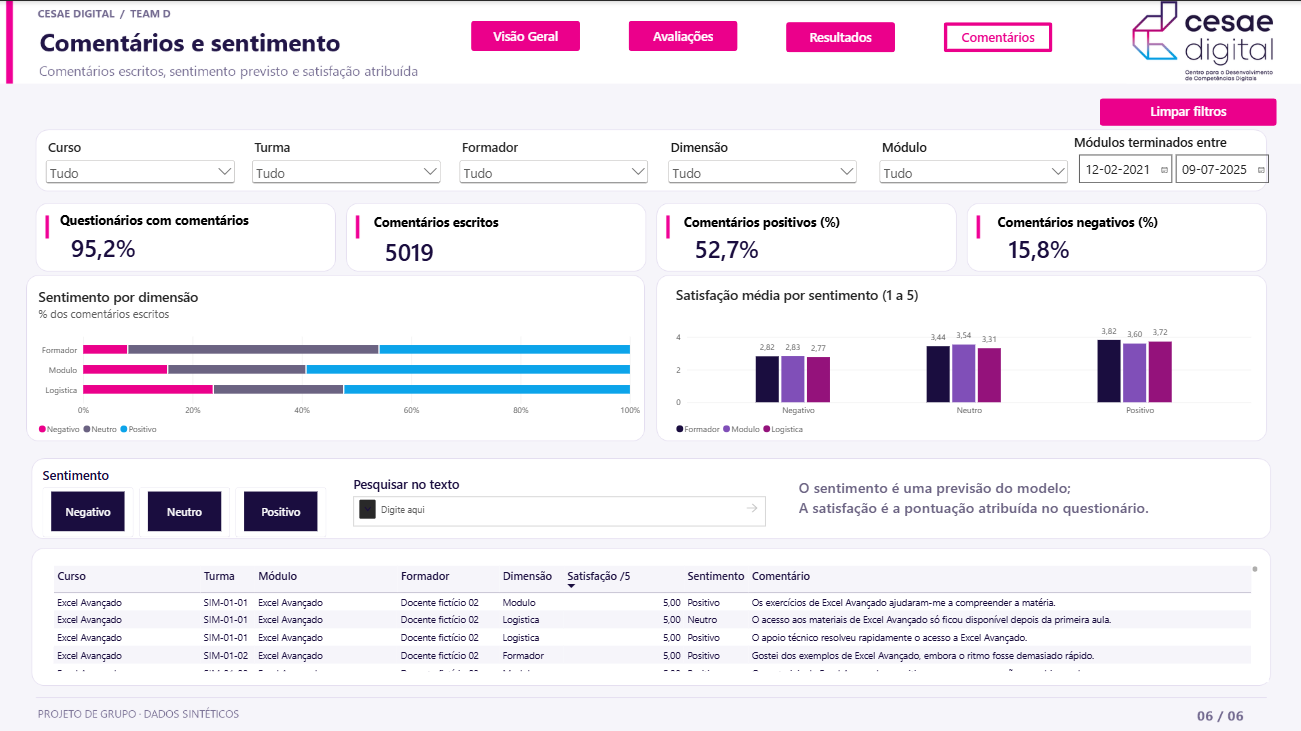

What the dashboard file says about the page in this screenshot:
{"tool":"powerbi","page":{"name":"\tComentários e sentimento","canvas":[1920,1080],"ordinal":5},"visuals":[{"type":"slicer","fields":{"Values":["dTurma.Turma"]},"box":[367,202.2,287.1,69.9],"z":0},{"type":"slicer","fields":{"Values":["dTurma.Curso"]},"box":[62.4,202.2,288.2,67.9],"z":1000},{"type":"slicer","fields":{"Values":["dFormador.Formador"]},"box":[671.6,202.2,287.7,83.2],"z":2000},{"type":"slicer","fields":{"Values":["dModuloCurso.CursoModulo"]},"box":[1290.8,202.2,287.7,83.2],"z":3000},{"type":"slicer","fields":{"Values":["fSentimento.Dimensao"]},"box":[978.7,202.2,287.7,83.2],"z":4000},{"type":"cardVisual","title":"Comentários negativos (%)","fields":{"Data":["_Medidas_FSentimento.TaxaNegativos"]},"box":[1469.2,313.8,339.6,77.4],"z":5000},{"type":"cardVisual","title":"Comentários positivos (%)","fields":{"Data":["_Medidas_FSentimento.TaxaPositivos"]},"box":[1005.9,313.8,288.2,76.2],"z":6000},{"type":"cardVisual","title":"Comentários escritos","fields":{"Data":["_Medidas_FSentimento.ComentariosEscritos"]},"box":[549.4,313.8,287.1,84.9],"z":7000},{"type":"cardVisual","title":"Questionários com comentários","fields":{"Data":["_Medidas_FSentimento.AdesaoComentarios"]},"box":[88.9,309.7,364.9,82.1],"z":8000},{"type":"hundredPercentStackedBarChart","title":"Sentimento por dimensão","fields":{"Category":["fSentimento.Dimensao"],"Series":["fSentimento.Sentimento"],"Y":["_Medidas_FSentimento.ComentariosEscritos"]},"box":[41.2,407.5,918,253.2],"z":9000},{"type":"advancedSlicerVisual","fields":{"Values":["fSentimento.Sentimento"]},"box":[62.4,684.1,419.5,104.9],"z":10000},{"type":"textSlicer","title":"Pesquisar no texto","fields":{"Values":["fSentimento.Comentario"]},"box":[504.3,684.1,639.5,104.9],"z":11000},{"type":"textbox","box":[1176,701.6,691.6,67.4],"z":12000},{"type":"tableEx","fields":{"Values":["fSentimento.Curso","fSentimento.Turma","fSentimento.Modulo","fSentimento.Formador","fSentimento.Dimensao","fSentimento.Satisfacao","fSentimento.Sentimento","fSentimento.Comentario"]},"box":[62.6,817.2,1805.5,185.9],"z":13000},{"type":"actionButton","box":[1620,144,260,40],"z":14000},{"type":"clusteredColumnChart","title":"Satisfação média por sentimento (1 a 5)","fields":{"Category":["fSentimento.Sentimento"],"Series":["fSentimento.Dimensao"],"Y":["_Medidas_FSentimento.SatisfacaoMedia"]},"box":[979,405.3,879.4,254.5],"z":15000},{"type":"slicer","title":"Módulos terminados entre","fields":{"Values":["dCalendario.Data"]},"box":[1581,195.1,300.4,85],"z":16000},{"type":"actionButton","box":[694.1,30,160,44],"z":17000},{"type":"actionButton","box":[926.3,30,160,44],"z":18000},{"type":"actionButton","box":[1158.2,30.8,160,44],"z":19000},{"type":"actionButton","box":[1389.8,30.8,160,44],"z":20000}]}

Visuals, with their boxes in screenshot pixels (x1, y1, x2, y2), scaled from the page's 1920x1080 canvas onto the 1301x731 screenshot:
slicer - dTurma.Turma: box(249, 137, 443, 184)
slicer - dTurma.Curso: box(42, 137, 238, 183)
slicer - dFormador.Formador: box(455, 137, 650, 193)
slicer - dModuloCurso.CursoModulo: box(875, 137, 1070, 193)
slicer - fSentimento.Dimensao: box(663, 137, 858, 193)
"Comentários negativos (%)" cardVisual: box(996, 212, 1226, 265)
"Comentários positivos (%)" cardVisual: box(682, 212, 877, 264)
"Comentários escritos" cardVisual: box(372, 212, 567, 270)
"Questionários com comentários" cardVisual: box(60, 210, 307, 265)
"Sentimento por dimensão" hundredPercentStackedBarChart: box(28, 276, 650, 447)
advancedSlicerVisual - fSentimento.Sentimento: box(42, 463, 327, 534)
"Pesquisar no texto" textSlicer: box(342, 463, 775, 534)
textbox: box(797, 475, 1265, 520)
tableEx - fSentimento.Curso x fSentimento.Turma: box(42, 553, 1266, 679)
actionButton: box(1098, 97, 1274, 125)
"Satisfação média por sentimento (1 a 5)" clusteredColumnChart: box(663, 274, 1259, 447)
"Módulos terminados entre" slicer: box(1071, 132, 1275, 190)
actionButton: box(470, 20, 579, 50)
actionButton: box(628, 20, 736, 50)
actionButton: box(785, 21, 893, 51)
actionButton: box(942, 21, 1050, 51)
